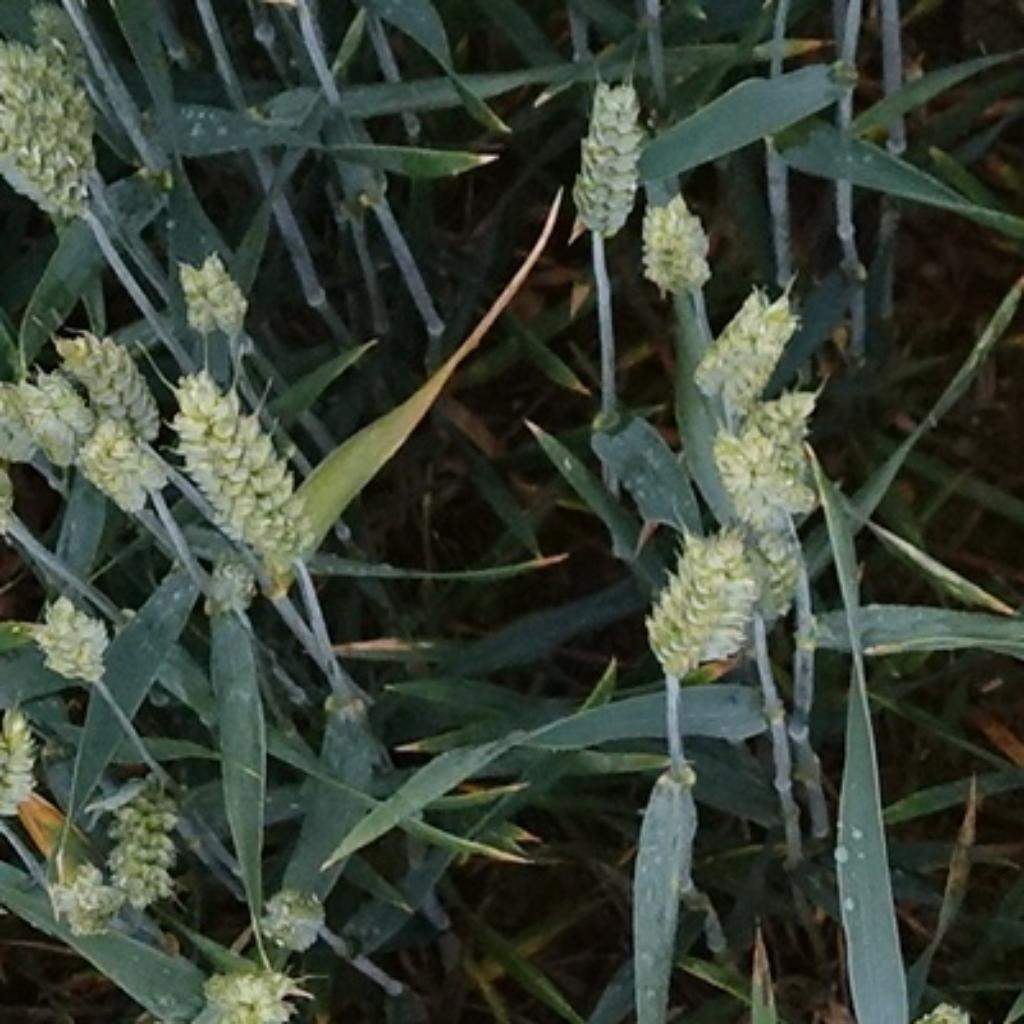0-0: (163, 363, 326, 579), (631, 520, 759, 686), (559, 66, 652, 250), (686, 276, 801, 396), (53, 320, 163, 440), (2, 113, 118, 225), (107, 770, 186, 912), (716, 420, 815, 532), (720, 382, 835, 477), (3, 24, 99, 137), (629, 186, 720, 301), (28, 586, 125, 689), (15, 353, 97, 473), (75, 424, 170, 523), (171, 243, 254, 348), (743, 525, 814, 643), (192, 952, 299, 1024), (0, 370, 70, 469), (41, 862, 131, 936), (248, 870, 330, 947), (0, 709, 48, 823), (192, 555, 261, 619)
